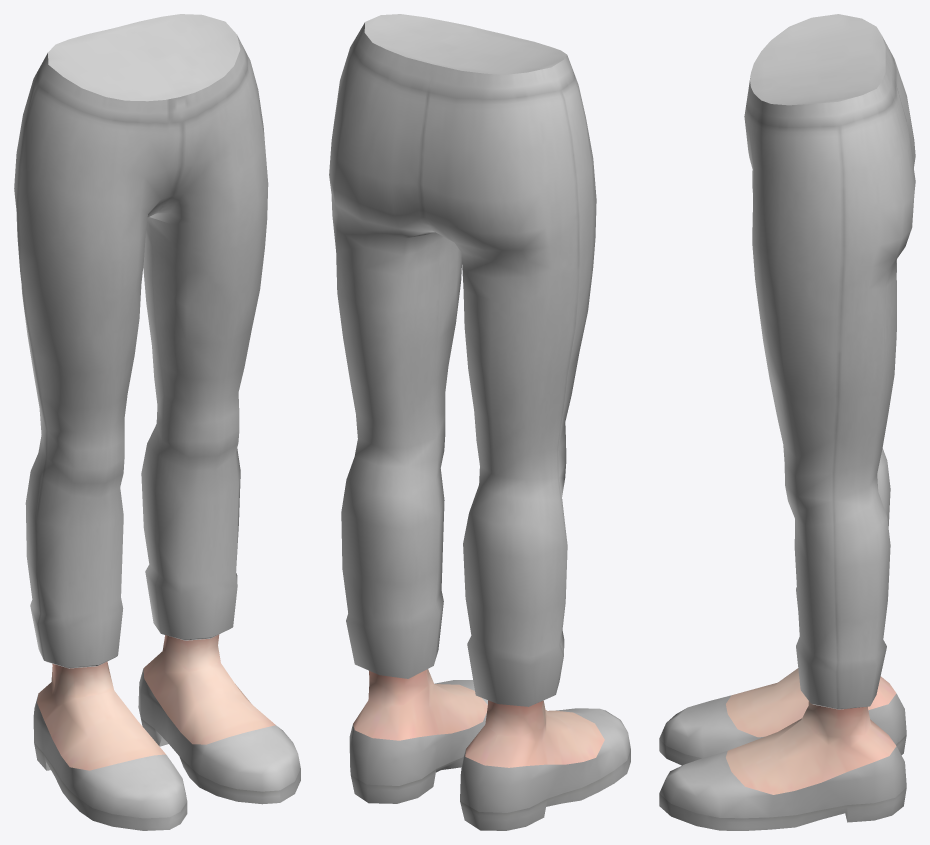
File: tr0810_00_lwb03.gltf
The picture shows the model from 3 angles, left to right: view 1: azimuth 30°, elevation 25°; view 2: azimuth 150°, elevation 25°; view 3: azimuth 270°, elevation 25°; orthographic projection. The views are drawn at different scales.
Parts seen in each view (by area): view 1: lwb03_lowerbody_mesh_shape:lowerbody03, lwb03_shoes_mesh_shape:lowerbody03, lwb03_lowerskin_mesh_shape:lowerbody03_skin; view 2: lwb03_lowerbody_mesh_shape:lowerbody03, lwb03_shoes_mesh_shape:lowerbody03, lwb03_lowerskin_mesh_shape:lowerbody03_skin; view 3: lwb03_lowerbody_mesh_shape:lowerbody03, lwb03_shoes_mesh_shape:lowerbody03, lwb03_lowerskin_mesh_shape:lowerbody03_skin.
Boxes of the visible parts, bbox=[...] form: lwb03_lowerbody_mesh_shape:lowerbody03: bbox=[14, 14, 268, 668]; lwb03_shoes_mesh_shape:lowerbody03: bbox=[33, 668, 300, 830]; lwb03_lowerskin_mesh_shape:lowerbody03_skin: bbox=[37, 634, 275, 770]; lwb03_lowerbody_mesh_shape:lowerbody03: bbox=[329, 14, 596, 706]; lwb03_shoes_mesh_shape:lowerbody03: bbox=[349, 680, 630, 830]; lwb03_lowerskin_mesh_shape:lowerbody03_skin: bbox=[353, 669, 604, 767]; lwb03_lowerbody_mesh_shape:lowerbody03: bbox=[744, 14, 915, 709]; lwb03_shoes_mesh_shape:lowerbody03: bbox=[659, 693, 906, 830]; lwb03_lowerskin_mesh_shape:lowerbody03_skin: bbox=[726, 668, 896, 794].
Size of what is drawn, in the model's own units: 0.3355 by 0.9742 by 0.3131.
Materials: 2 (2 with a texture image).
